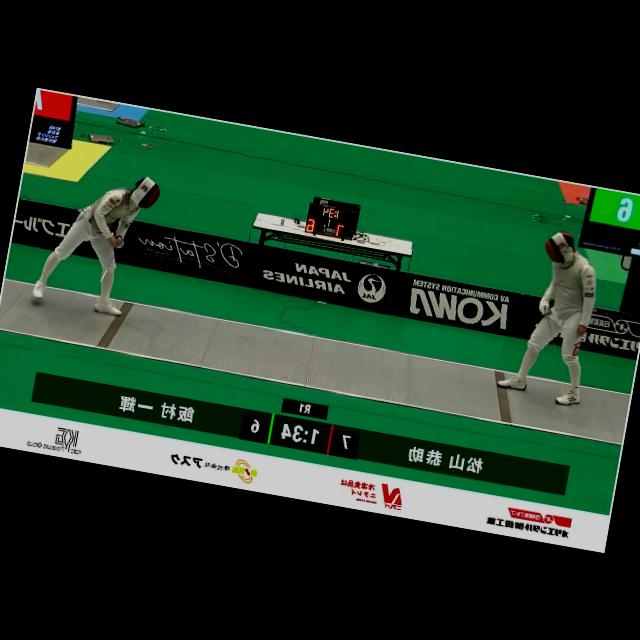blade: (524, 306, 584, 402), (96, 235, 124, 288)
